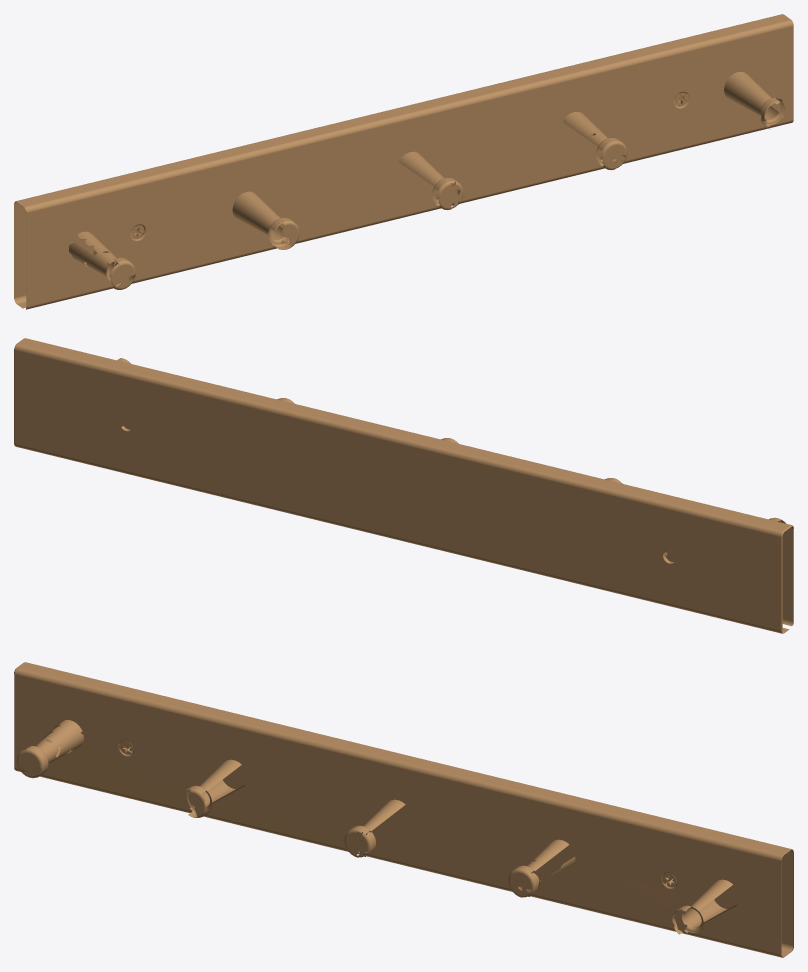
File: hooks.fbx
The picture shows the model from 3 angles, top to bottom: view 1: azimuth 30°, elevation 25°; view 2: azimuth 150°, elevation 25°; view 3: azimuth 330°, elevation 25°; orthographic projection.
Visible parts, largest first — view 1: hook_02; view 2: hook_02; view 3: hook_02.
Part boxes in pixels (x1,y1,x2,y2): hook_02: [14, 14, 793, 309]; hook_02: [14, 338, 793, 633]; hook_02: [14, 662, 793, 957].
Bounding box in the file's own units: 47.18 × 6.03 × 5.66.
1 material, 1 textured.
